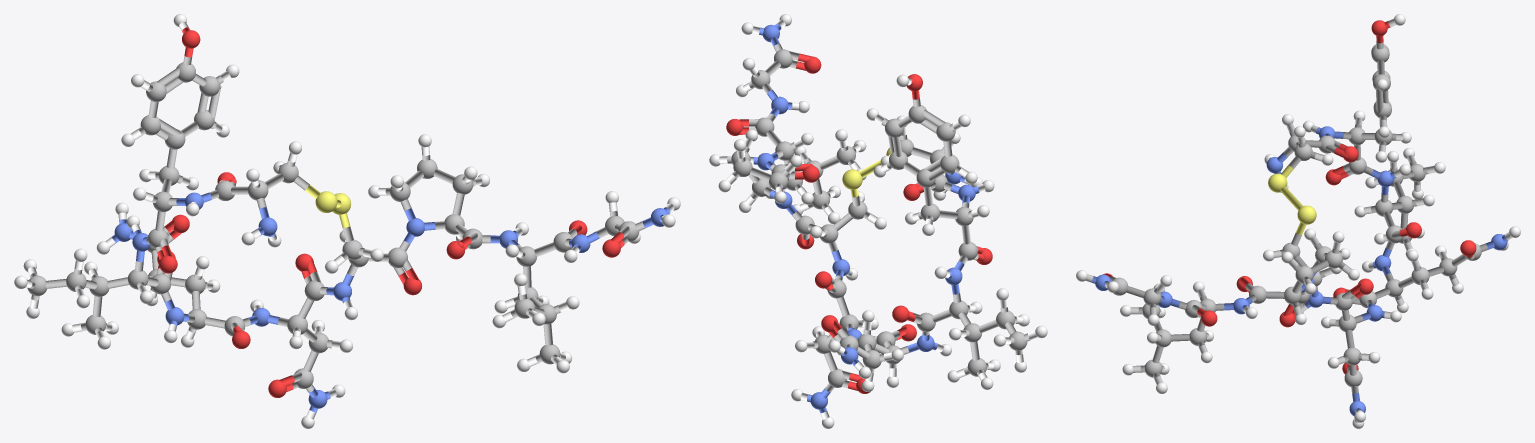
The model's file is chemistry_model.glb.
3 renders of one model, left to right at view 1: azimuth 30°, elevation 25°; view 2: azimuth 150°, elevation 25°; view 3: azimuth 270°, elevation 25°, orthographic. The views are drawn at different scales.
Visible parts, largest first — view 1: Object_20, Object_18, Object_19, Object_17, Object_34, Object_32, Object_24, Object_5, Object_21, Object_33, Object_28, Object_4 (+7 smaller); view 2: Object_20, Object_19, Object_18, Object_17, Object_32, Object_34, Object_24, Object_5, Object_28, Object_33, Object_21, Object_4 (+8 smaller); view 3: Object_20, Object_17, Object_18, Object_19, Object_32, Object_34, Object_24, Object_33, Object_21, Object_5, Object_28, Object_4 (+7 smaller).
Boxes of the visible parts, box(x1,y1,x2,y2) form: Object_20: box(29, 55, 645, 388); Object_18: box(140, 62, 624, 324); Object_19: box(27, 110, 533, 334); Object_17: box(107, 163, 639, 392); Object_34: box(25, 71, 680, 339); Object_32: box(105, 22, 674, 419); Object_24: box(157, 27, 624, 391); Object_5: box(134, 192, 668, 310); Object_21: box(148, 155, 560, 318); Object_33: box(121, 14, 528, 247); Object_28: box(147, 230, 530, 428); Object_4: box(111, 200, 670, 412); Object_20: box(749, 44, 1030, 387); Object_19: box(769, 147, 1027, 376); Object_18: box(731, 70, 959, 219); Object_17: box(774, 49, 978, 392); Object_32: box(719, 20, 985, 419); Object_34: box(736, 14, 1037, 380); Object_24: box(739, 53, 992, 390); Object_5: box(753, 24, 975, 341); Object_28: box(791, 212, 903, 428); Object_33: box(709, 74, 994, 212); Object_21: box(727, 146, 977, 260); Object_4: box(759, 24, 979, 413); Object_20: box(1110, 41, 1428, 386); Object_17: box(1112, 143, 1487, 393); Object_18: box(1143, 44, 1390, 347); Object_19: box(1138, 101, 1481, 314); Object_32: box(1085, 18, 1512, 422); Object_34: box(1076, 36, 1435, 363); Object_24: box(1105, 20, 1421, 369); Object_33: box(1246, 14, 1405, 324); Object_21: box(1154, 140, 1366, 347); Object_5: box(1095, 126, 1396, 314); Object_28: box(1161, 245, 1463, 428); Object_4: box(1091, 127, 1508, 415).
Bounding box in the file's own units: 21.65 × 17.6 × 19.2.
